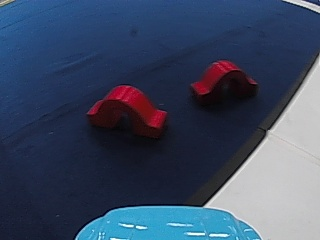bridge: (84, 81, 172, 136), (186, 58, 257, 106)
